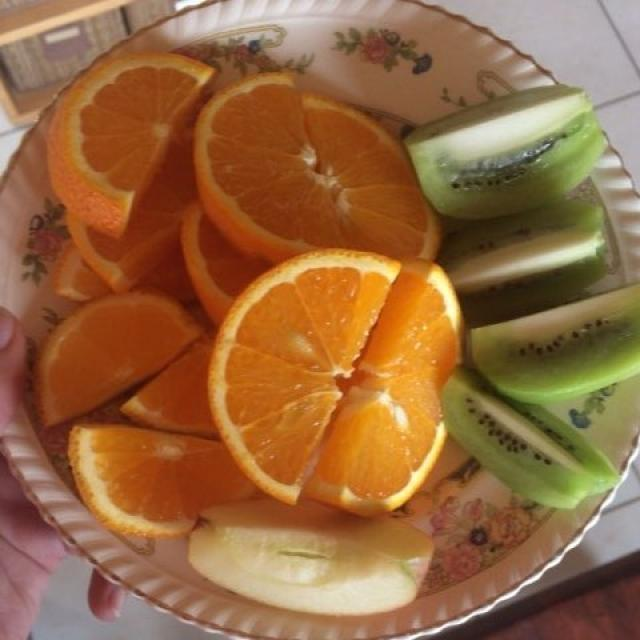fruit-salad: (18, 66, 614, 614)
